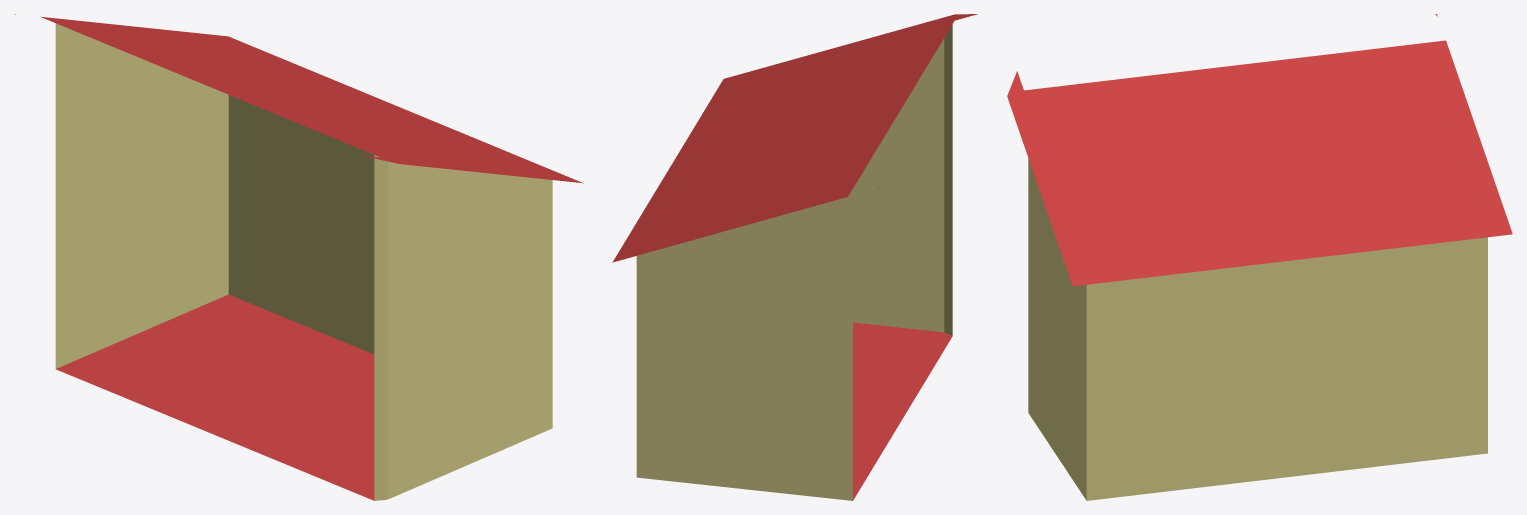
The picture shows the model from 3 angles, left to right: view 1: azimuth 30°, elevation 25°; view 2: azimuth 150°, elevation 25°; view 3: azimuth 270°, elevation 25°; orthographic projection. The views are drawn at different scales.
Bounding box in the file's own units: 9.73 × 12.47 × 9.
